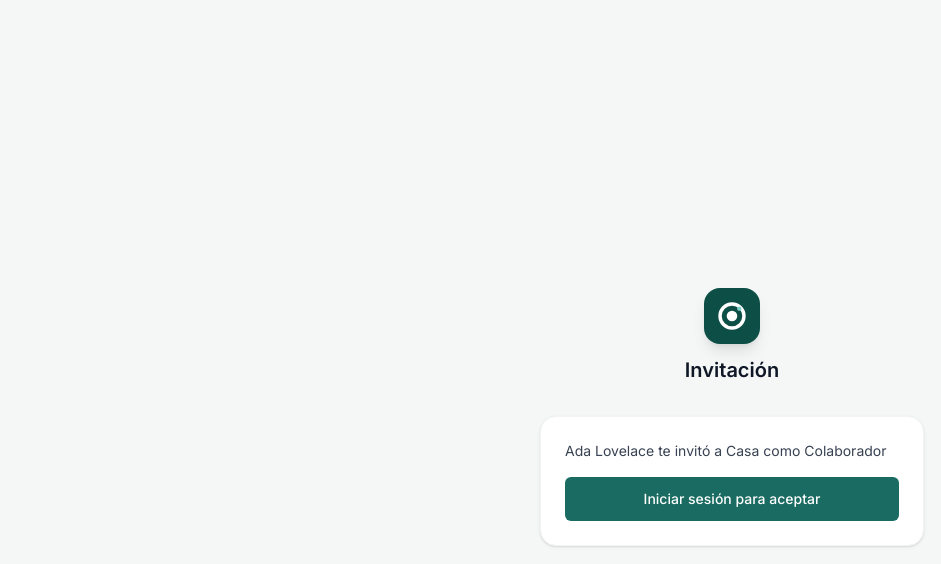
Test: InvitationAcceptPage › sends an existing user to login with the landing as next
Expected: the text "Ada Lovelace te invitó a Casa como Colaborador" is shown, [565,441,899,461]
What coordinates should you click on to do the following:
click the button "Iniciar sesión para aceptar"
I would click on:
 (732, 499)
Its box is [565,477,899,521].
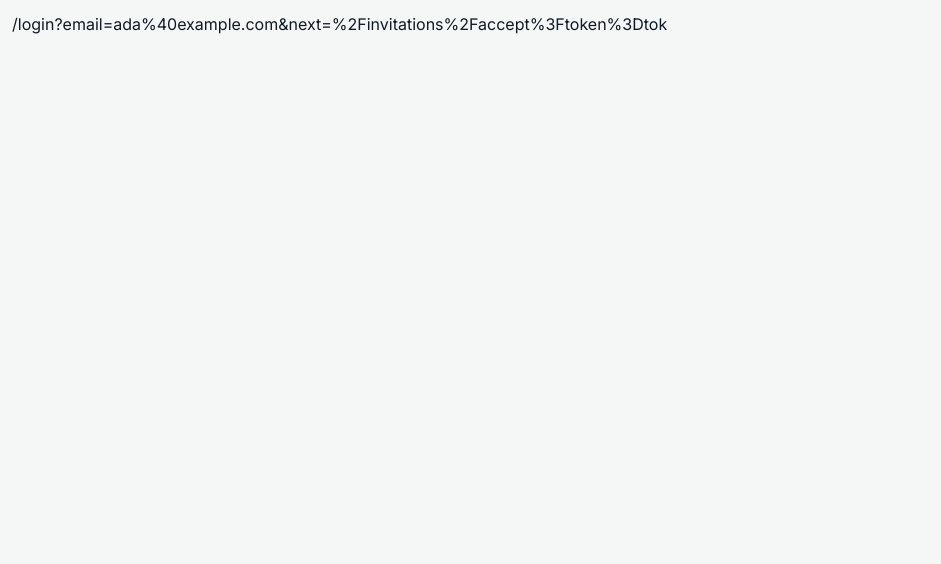
Result: the text with test id "loc" reads "/login?email=ada%40example.com&next=%2Finvitations%2Faccept%3Ftoken%3Dtok" at [12,14,667,34]
